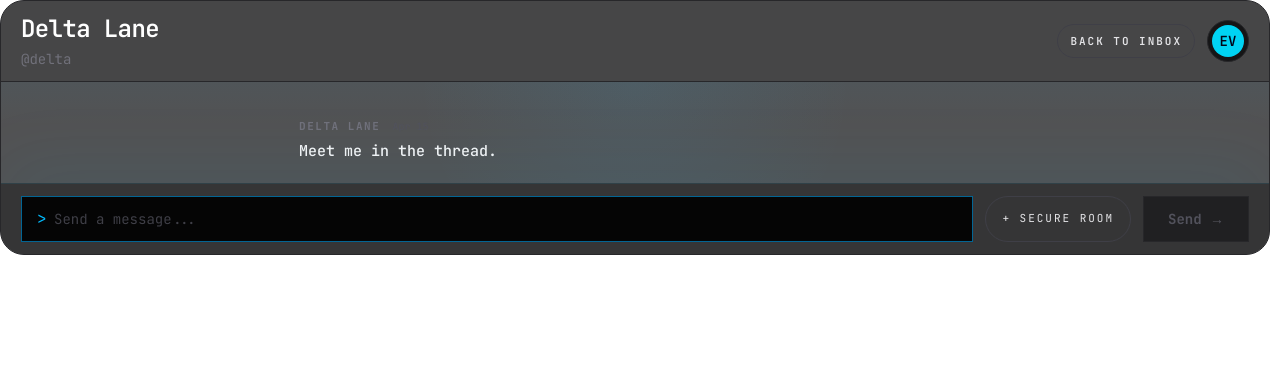
it: PersonalConversation › marks matched pending optimistic messages failed on message:error and surfaces unmatched errors
The width and height of the screenshot is (1280, 377).
Step 1. Type "This might fail." into the field with placeholder "Send a message..." → (497, 218), box [21, 196, 974, 242]
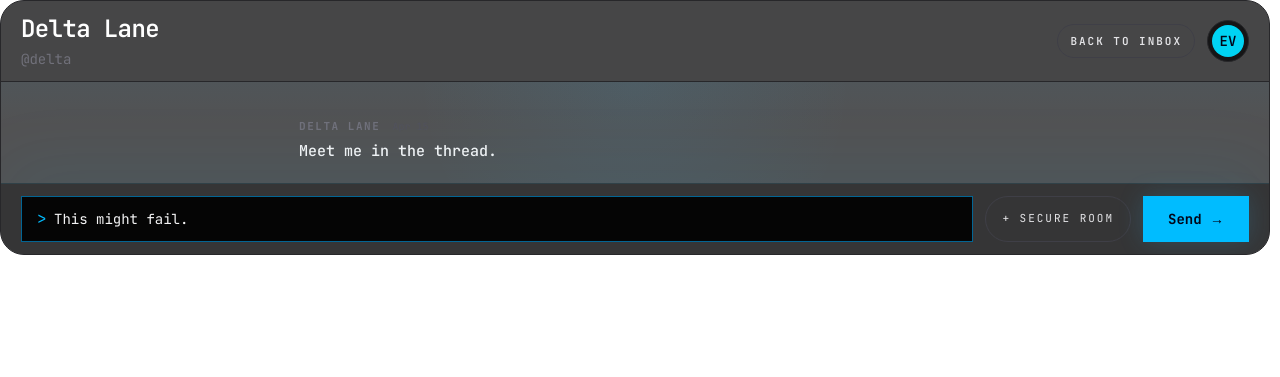
Step 2. Click the button "Send →" → (1196, 218), box [1143, 196, 1249, 242]
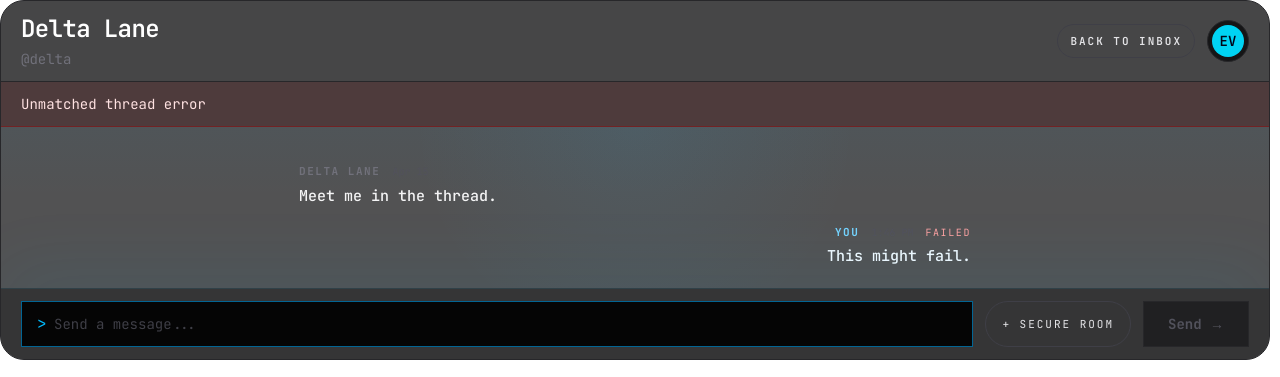
Expected: the text "Unmatched thread error" is shown, [1, 82, 1269, 127]
